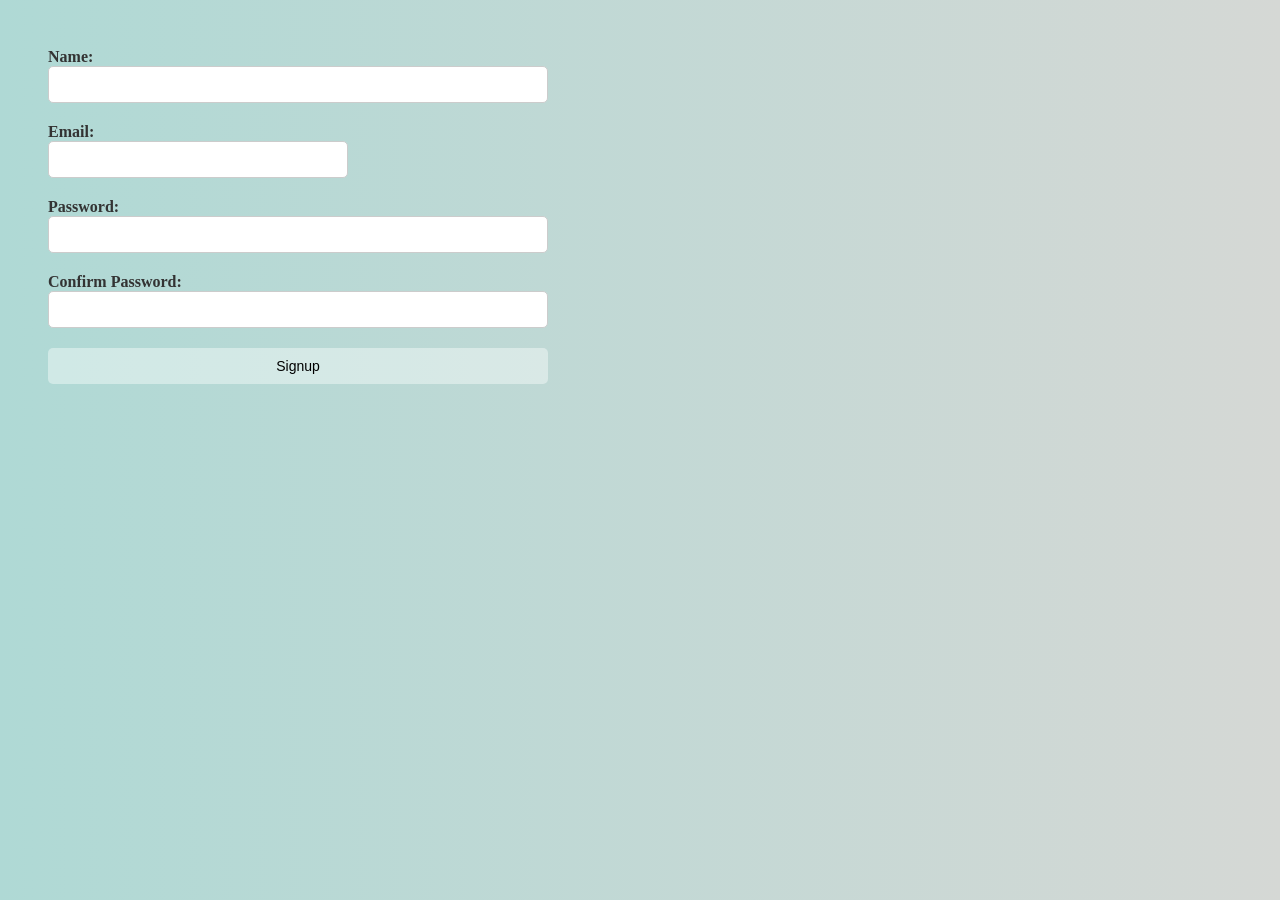
Test case: a valid form registers the user and says so
The width and height of the screenshot is (1280, 900).
Type "Ada" into the field labelled "Name:" at [298, 84], box [48,66,548,103]
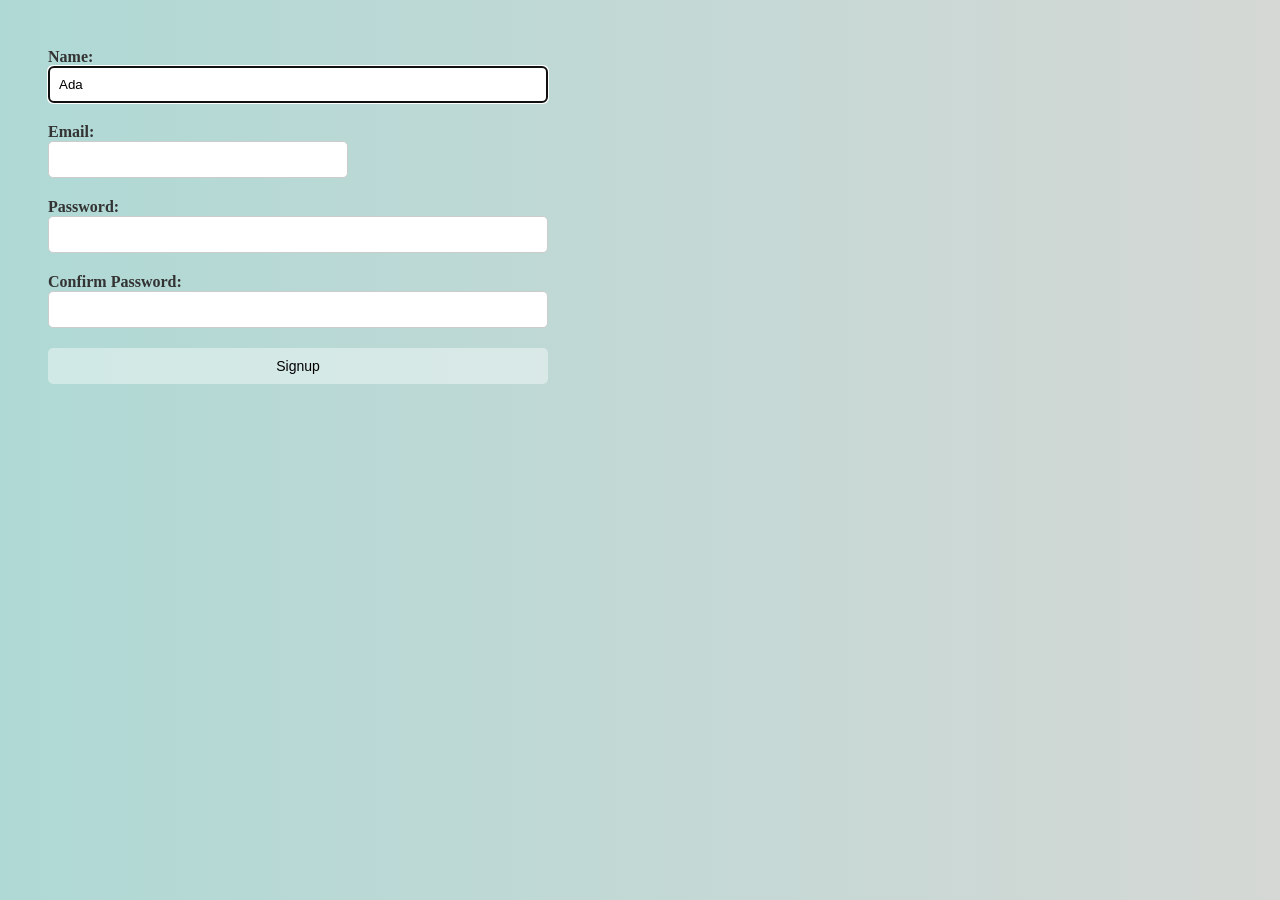
Type "ada@example.com" into the field labelled "Email:" at [198, 160], box [48,141,348,178]
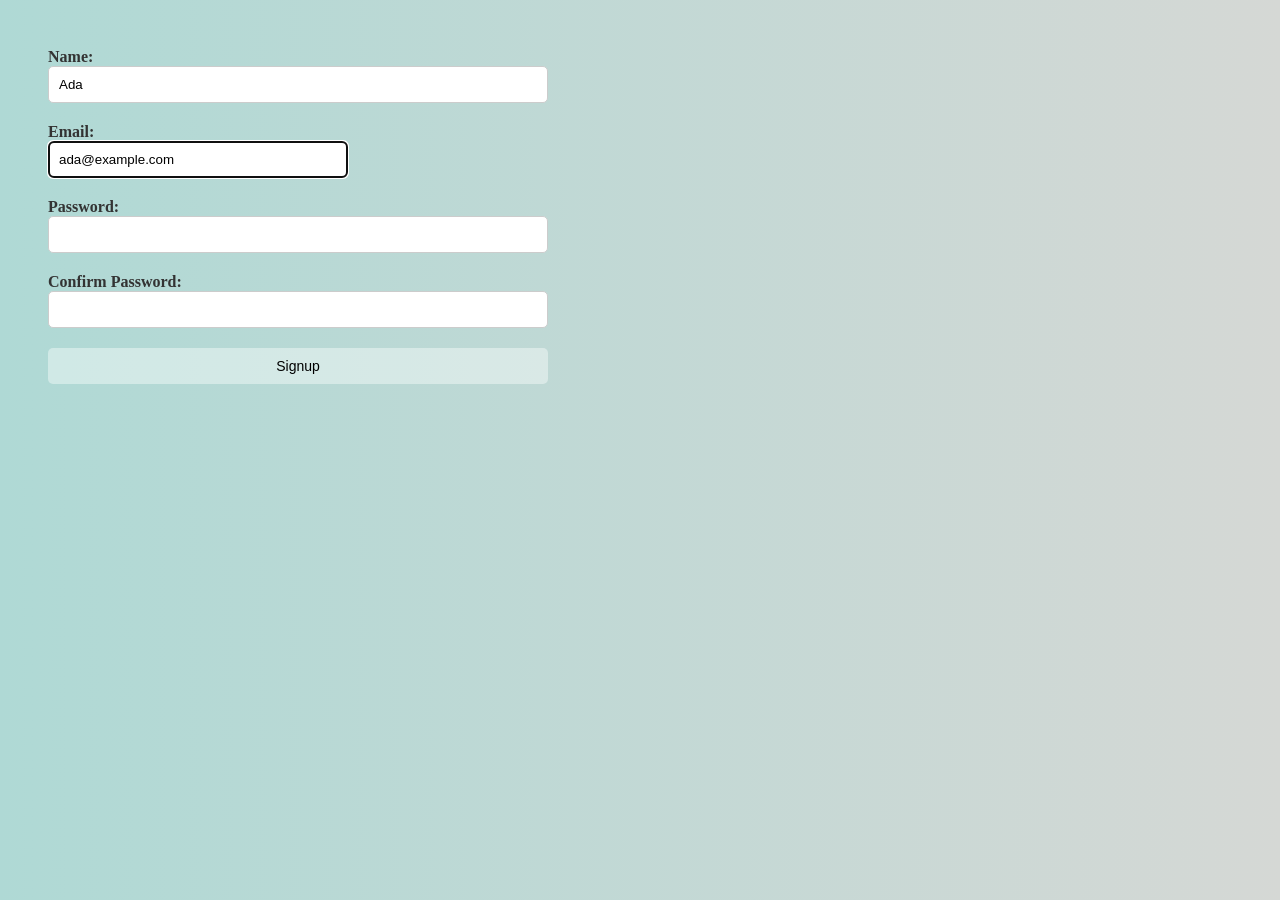
Type "harvest42" into the password field labelled "Password:" at [298, 234], box [48,216,548,253]
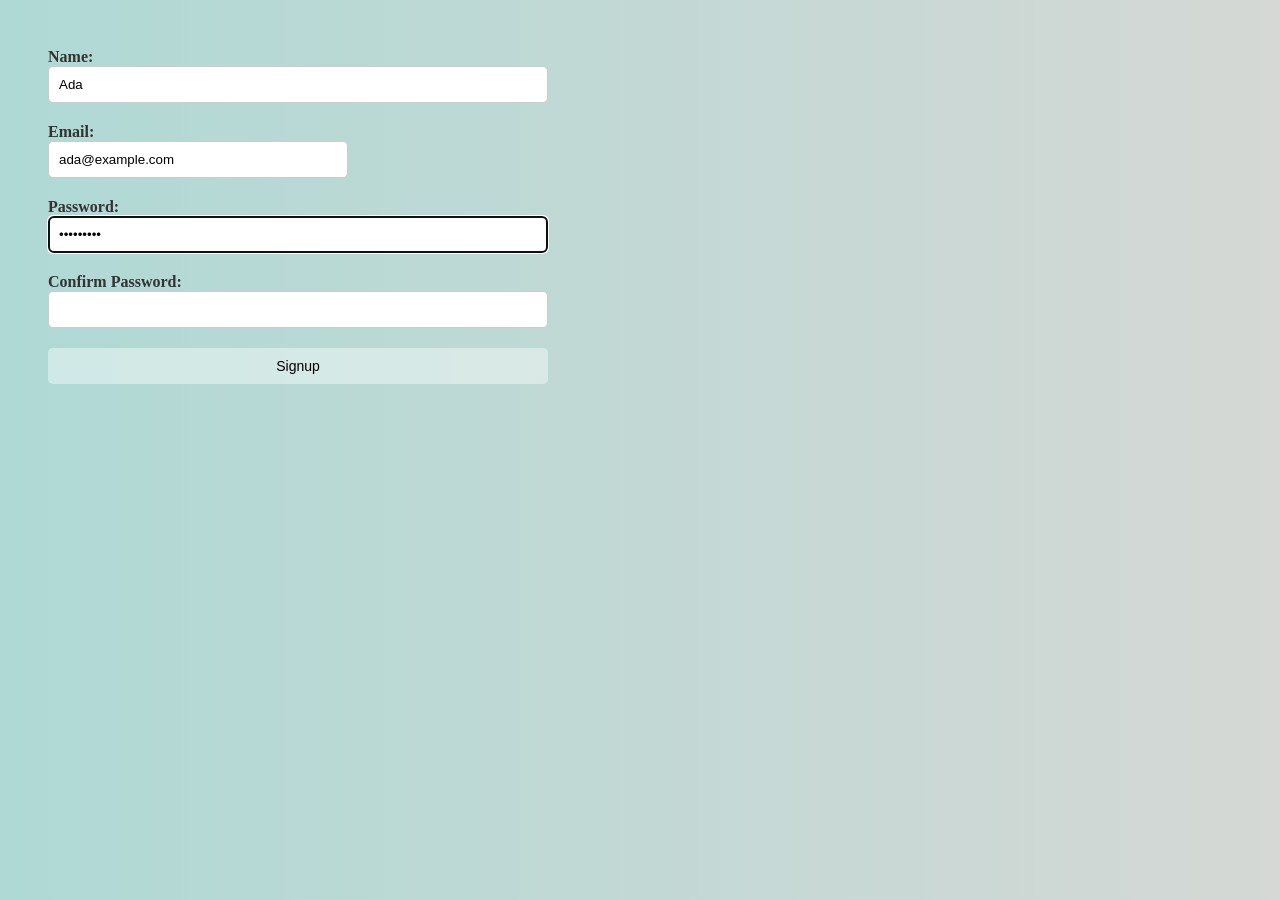
Type "harvest42" into the password field labelled "Confirm Password:" at [298, 310], box [48,291,548,328]
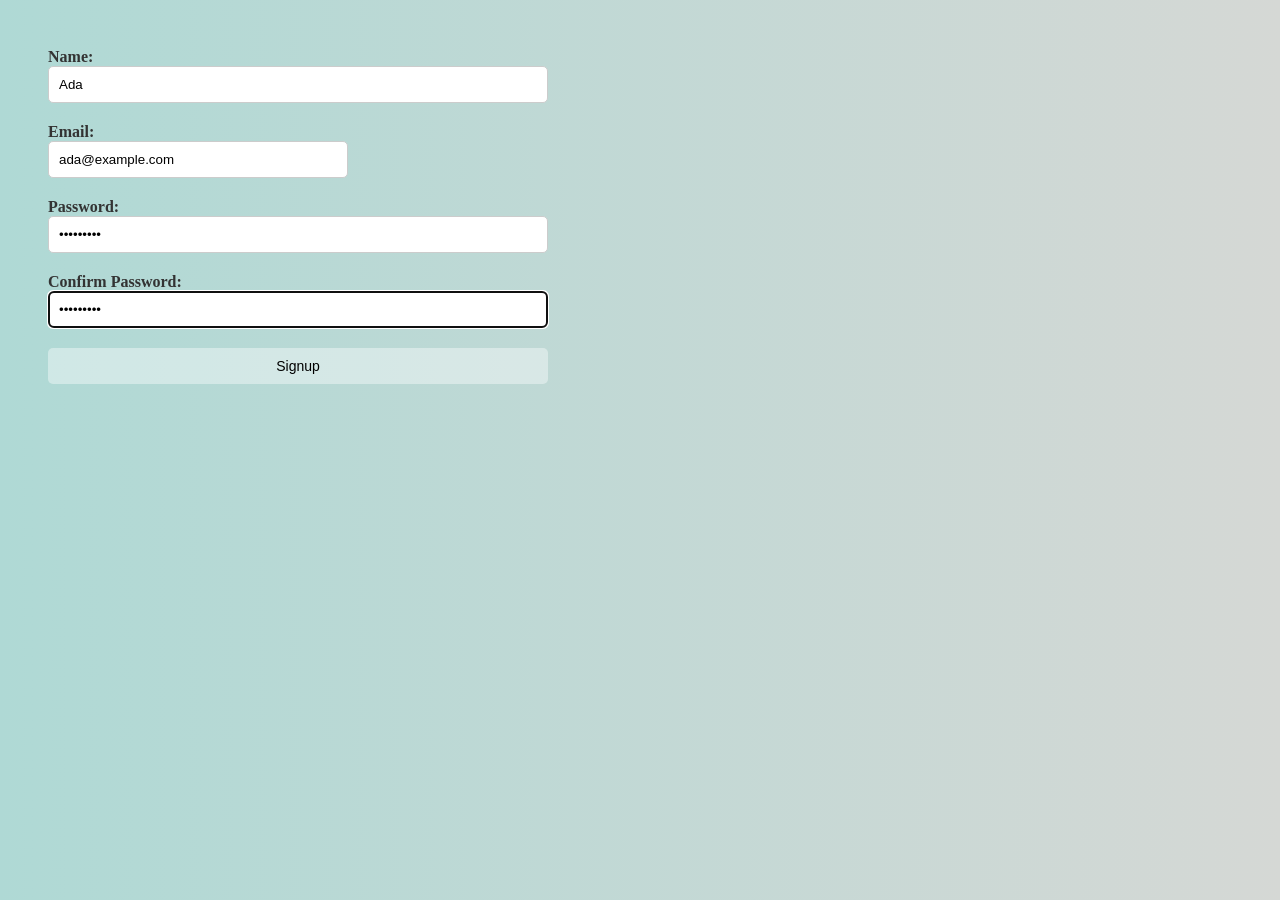
Click the button "Signup" at [298, 366], box [48,348,548,384]
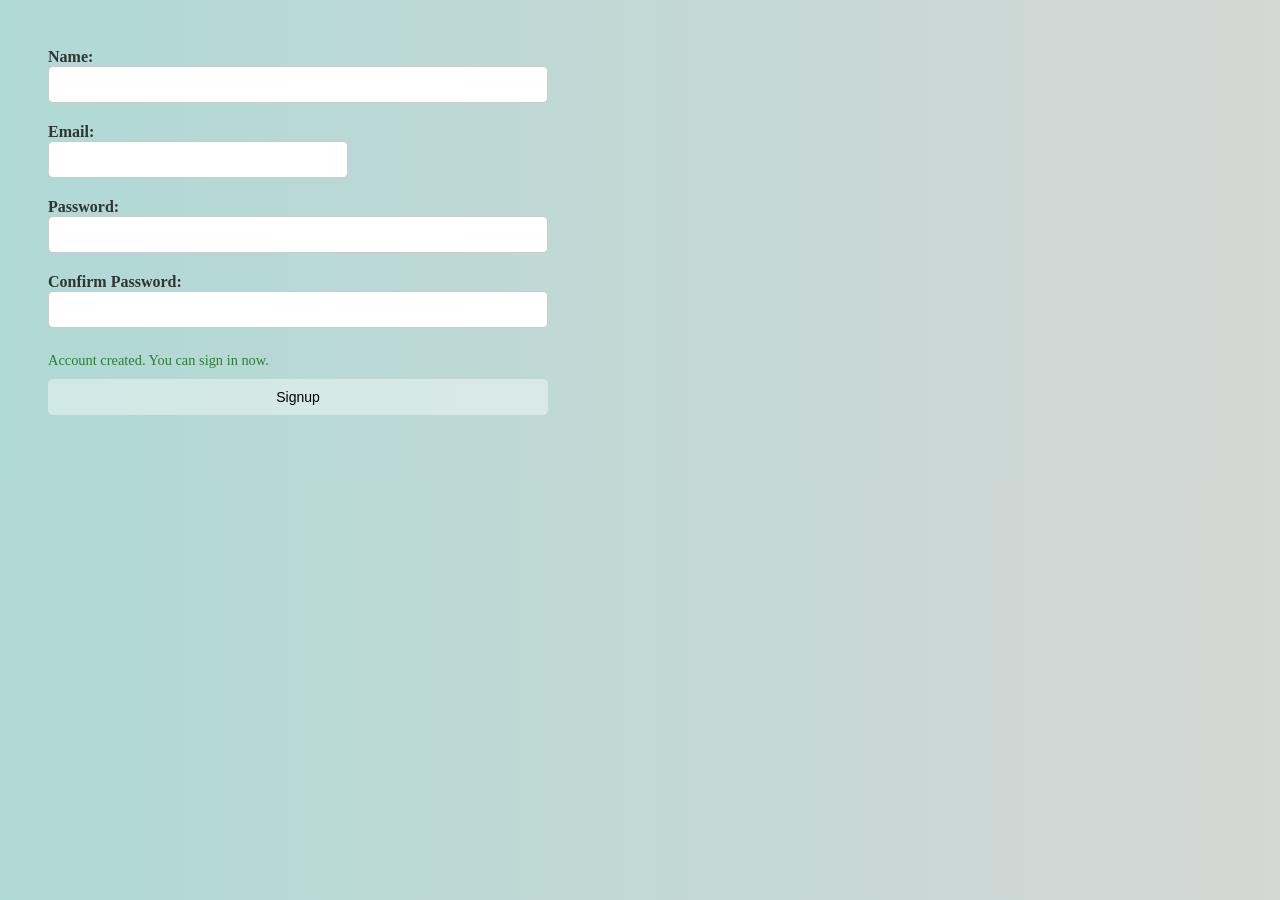
Expected: the message "Account created. You can sign in now." is shown, [48,352,269,368]
